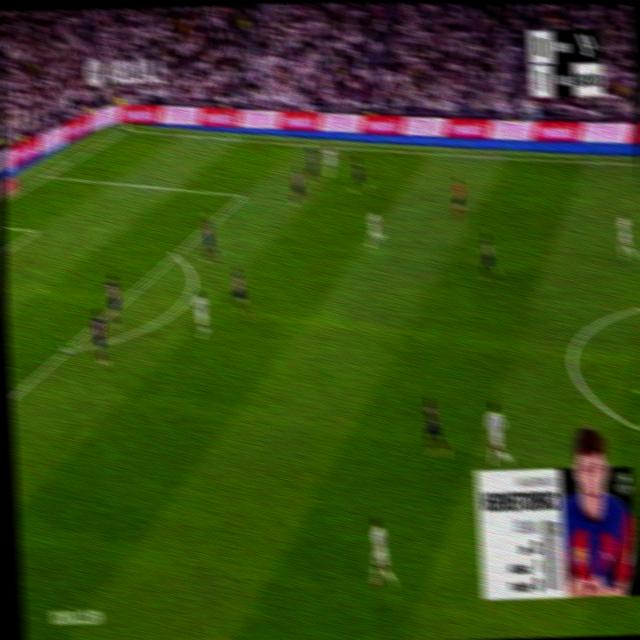bigarea_top_inner: (237, 188, 247, 203)
bigarea_top_outter: (43, 168, 53, 180)
bottom_arc_area_intersection: (61, 338, 74, 358)
corner: (120, 123, 131, 133)
smallarea_top_inner: (32, 225, 39, 235)
top_arc_area_intersection: (168, 244, 181, 262)
